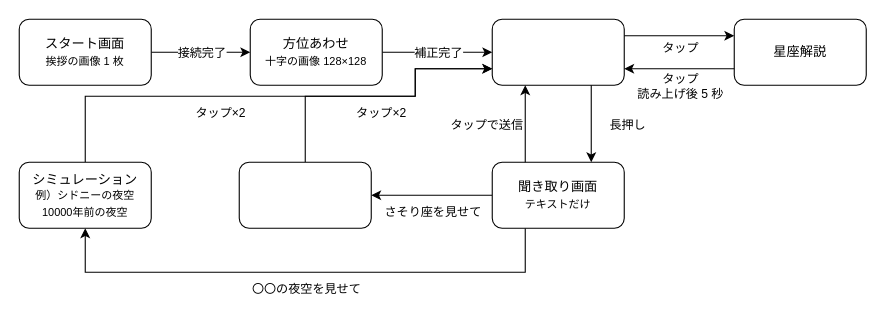
Image size: 886x315. Some labels were removed from this diagram. The centre of each missing label's shape, as x and y in pixels:
ガイド機能 星座表示と同じ ＋ 案内の矢印の画像: (304,194)
星座表示: (557,51)
